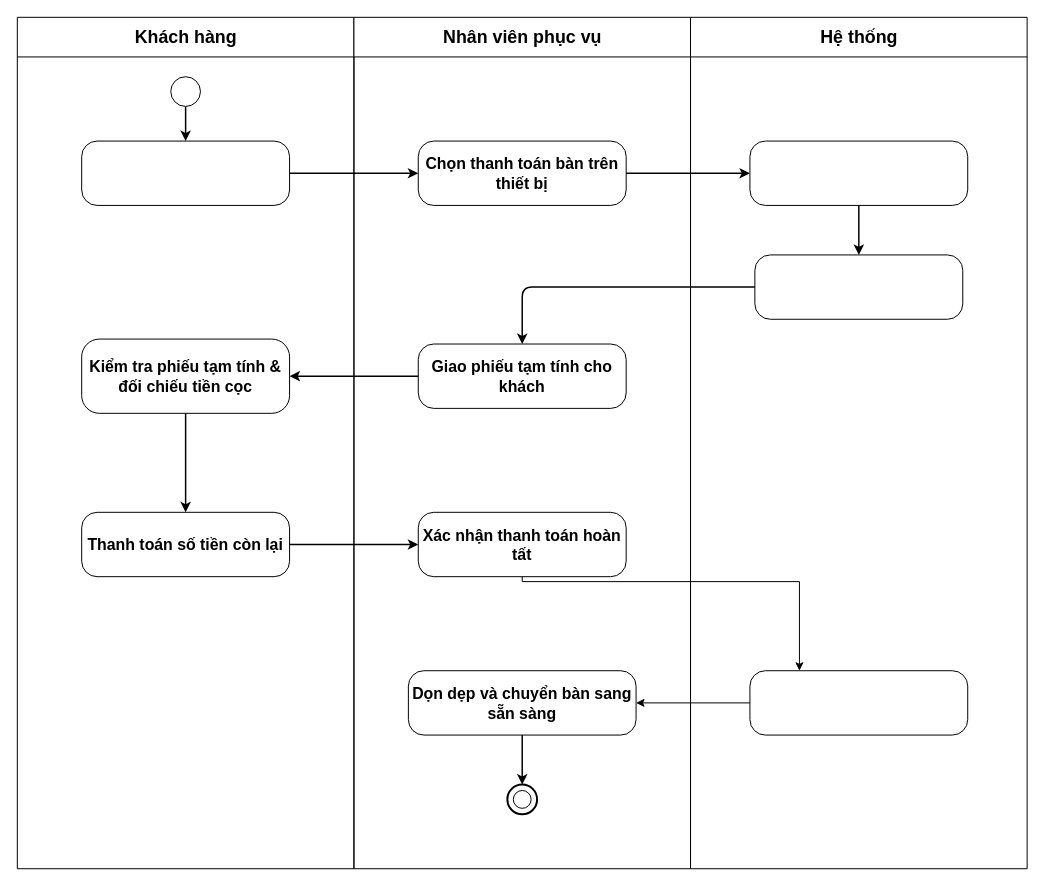
Some shapes in this 1044 by 886 pixel diagram are drawn without their labels. The shapes that lost their labels are listed below. From the top down, each one's centre as x and y in pixels, then its label:
At (x=185, y=172): "Yêu cầu thanh toán".
At (x=858, y=172): "Tính tiền, phí, thuế & cấn trừ cọc".
At (x=858, y=286): "In phiếu tạm tính".
At (x=858, y=702): "Lưu hóa đơn vào CSDL & cập nhật bàn sang dọn dẹp".
